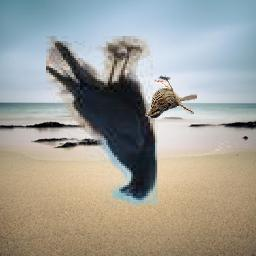Crow: (46, 37, 158, 208)
Sparrow: (145, 76, 197, 119)
